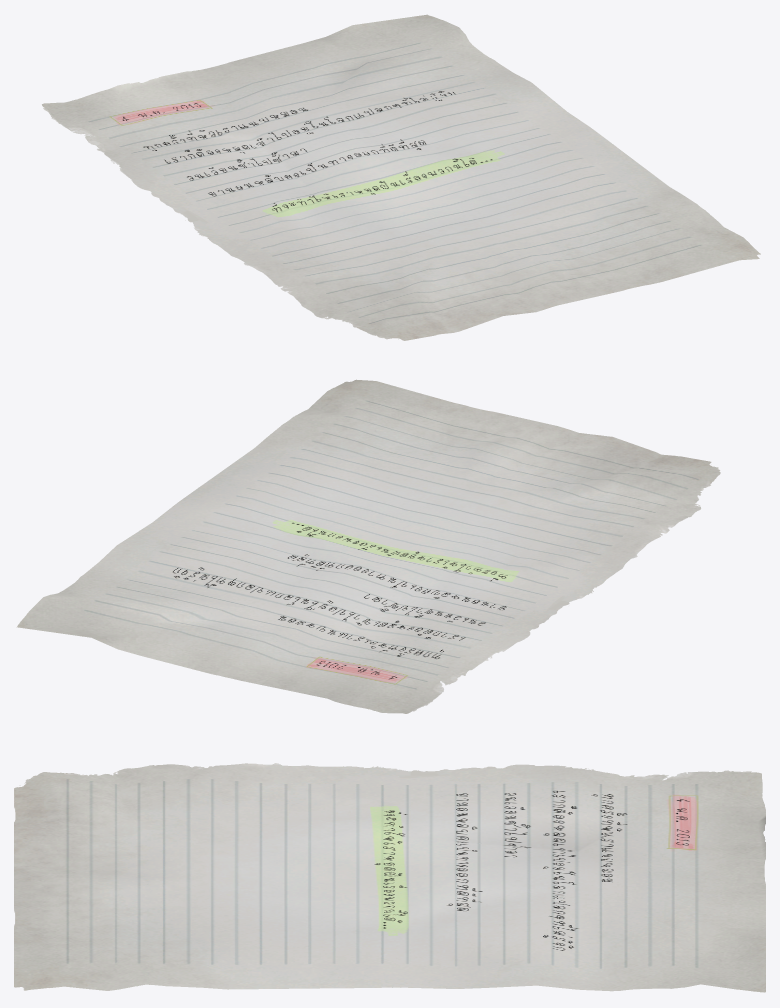
Rendered from diary02.FBX.
3 views of the same model, one above another, from view 1: azimuth 30°, elevation 25°; view 2: azimuth 150°, elevation 25°; view 3: azimuth 270°, elevation 25° (orthographic). The views are drawn at different scales.
Parts seen in each view (by area): view 1: SM_Diary2; view 2: SM_Diary2; view 3: SM_Diary2.
Part boxes in pixels (<box>): SM_Diary2: <box>42,14,760,340</box>; SM_Diary2: <box>16,379,720,713</box>; SM_Diary2: <box>14,763,765,992</box>.
Bounding box in the file's own units: 18.8 × 0.5262 × 26.3.
1 material, 1 textured.
